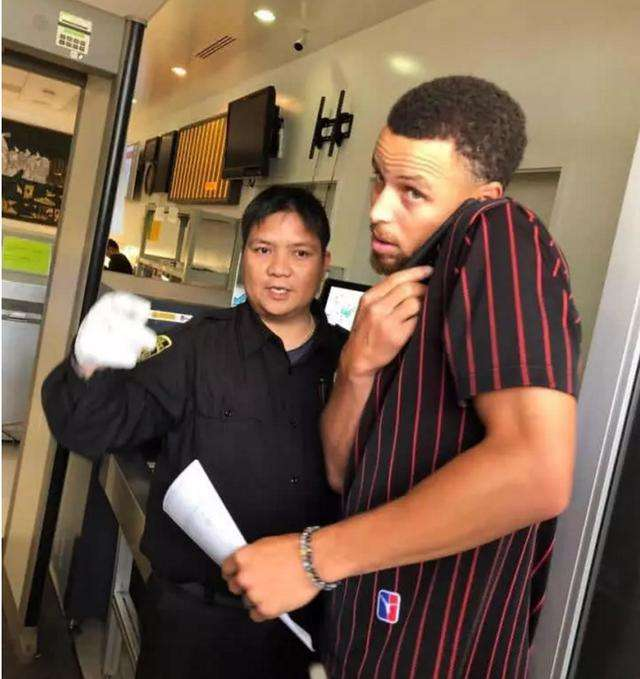phone: (385, 213, 482, 269)
